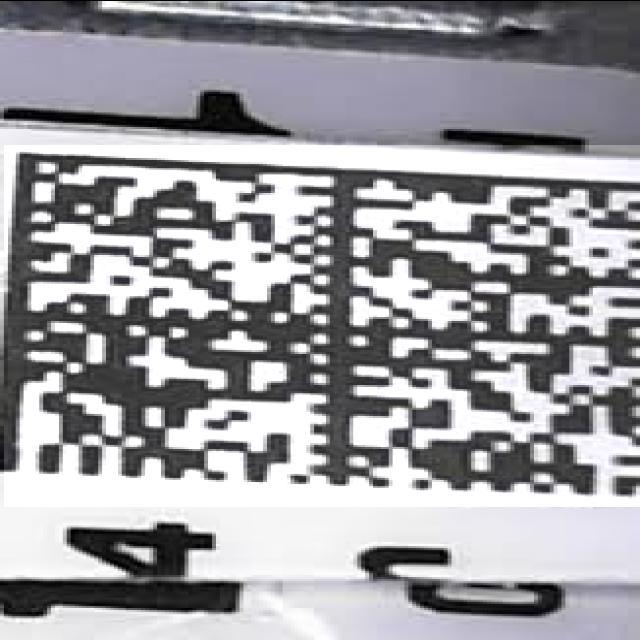Data-Matrix: (4, 144, 640, 506)
